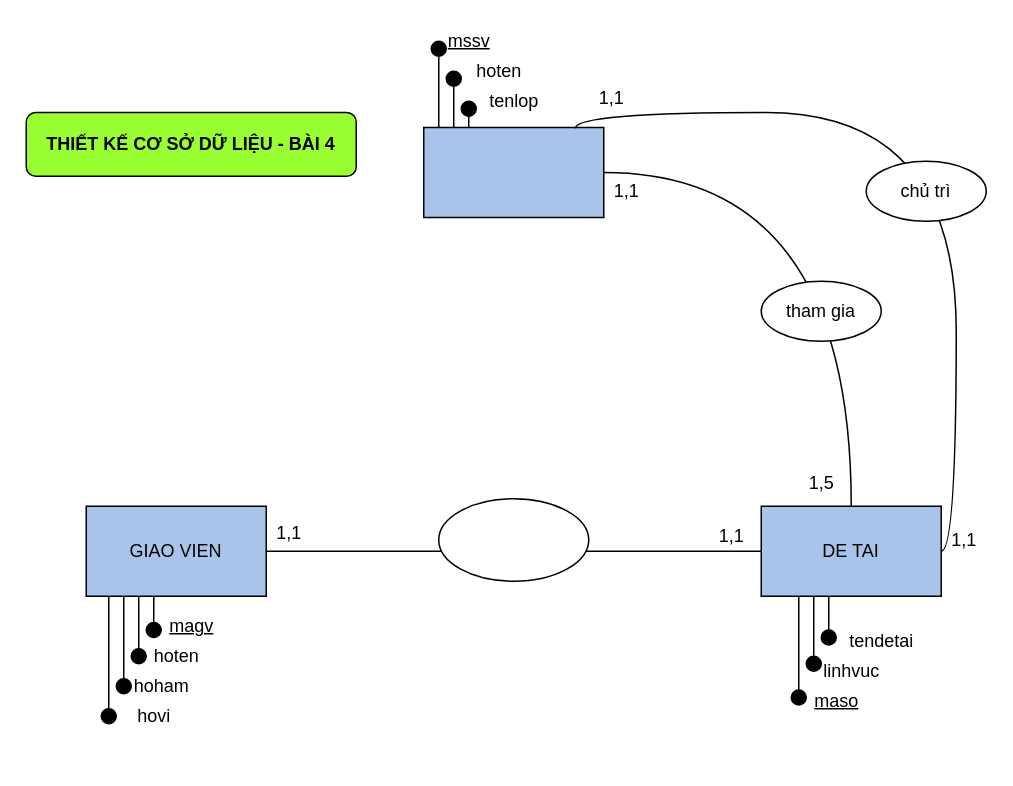
Some shapes in this 1013 by 786 pixel diagram are drawn without their labels. The box of each missing label's shape, as (x1, y1, x2, y2) in pixels:
huong dan: (437, 497, 589, 581)
SINH VIEN: (422, 126, 604, 218)
